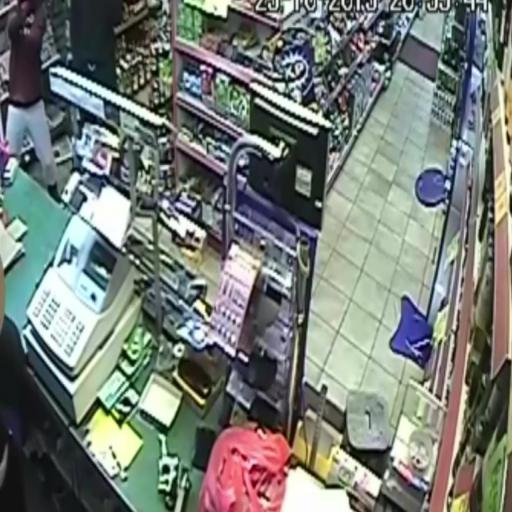Guns: (17, 9, 31, 24)
